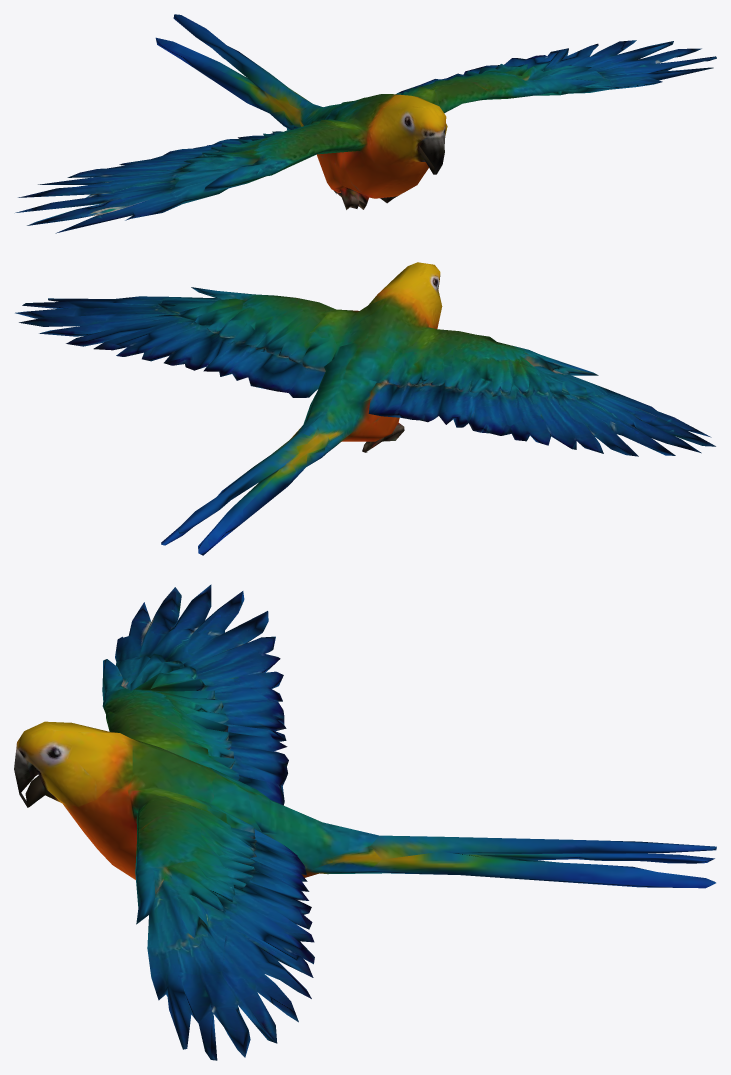
The model's file is parrot-fly.glb.
3 renders of one model, top to bottom at view 1: azimuth 30°, elevation 25°; view 2: azimuth 150°, elevation 25°; view 3: azimuth 270°, elevation 25°, orthographic. The views are drawn at different scales.
Parts seen in each view (by area): view 1: tripo_node_24953114-a967-4751-9728-09ac967ea579; view 2: tripo_node_24953114-a967-4751-9728-09ac967ea579; view 3: tripo_node_24953114-a967-4751-9728-09ac967ea579.
Part boxes in pixels (box(x1,y1,x2,y2)): tripo_node_24953114-a967-4751-9728-09ac967ea579: box(15, 14, 716, 233); tripo_node_24953114-a967-4751-9728-09ac967ea579: box(15, 262, 715, 555); tripo_node_24953114-a967-4751-9728-09ac967ea579: box(14, 584, 716, 1060).
Bounding box in the file's own units: 0.998 × 0.1874 × 0.6514.
Materials: 1 (1 with a texture image).
